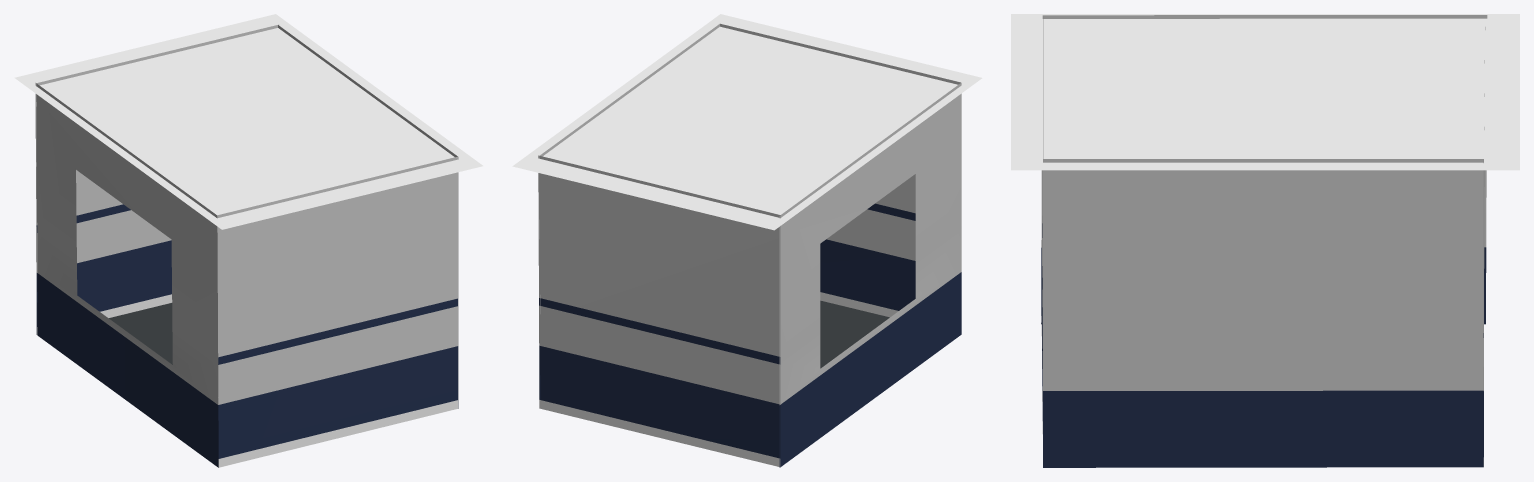
File: SM_H_Building_Tide_PrisonMainInter_06_ATLAS.fbx
3 views of the same model, side by side, from view 1: azimuth 30°, elevation 25°; view 2: azimuth 150°, elevation 25°; view 3: azimuth 270°, elevation 25° (orthographic). The views are drawn at different scales.
Visible parts, largest first — view 1: SM_H_Building_Tide_PrisonMainInter_06_ATLAS; view 2: SM_H_Building_Tide_PrisonMainInter_06_ATLAS; view 3: SM_H_Building_Tide_PrisonMainInter_06_ATLAS.
Boxes of the visible parts, <box> form: SM_H_Building_Tide_PrisonMainInter_06_ATLAS: <box>14,14,482,467</box>; SM_H_Building_Tide_PrisonMainInter_06_ATLAS: <box>512,14,982,467</box>; SM_H_Building_Tide_PrisonMainInter_06_ATLAS: <box>1011,14,1519,467</box>.
Bounding box in the file's own units: 428 × 589 × 395.
